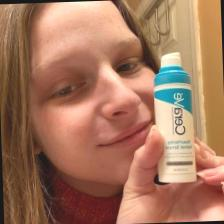Dry: (34, 9, 150, 174)
